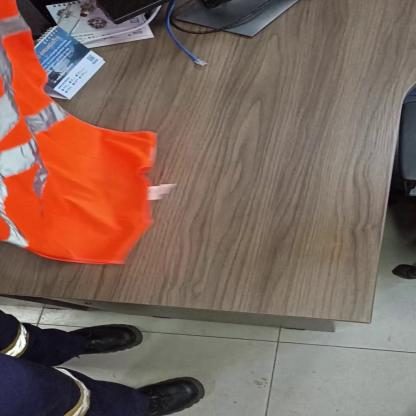colete: (0, 0, 162, 271)
